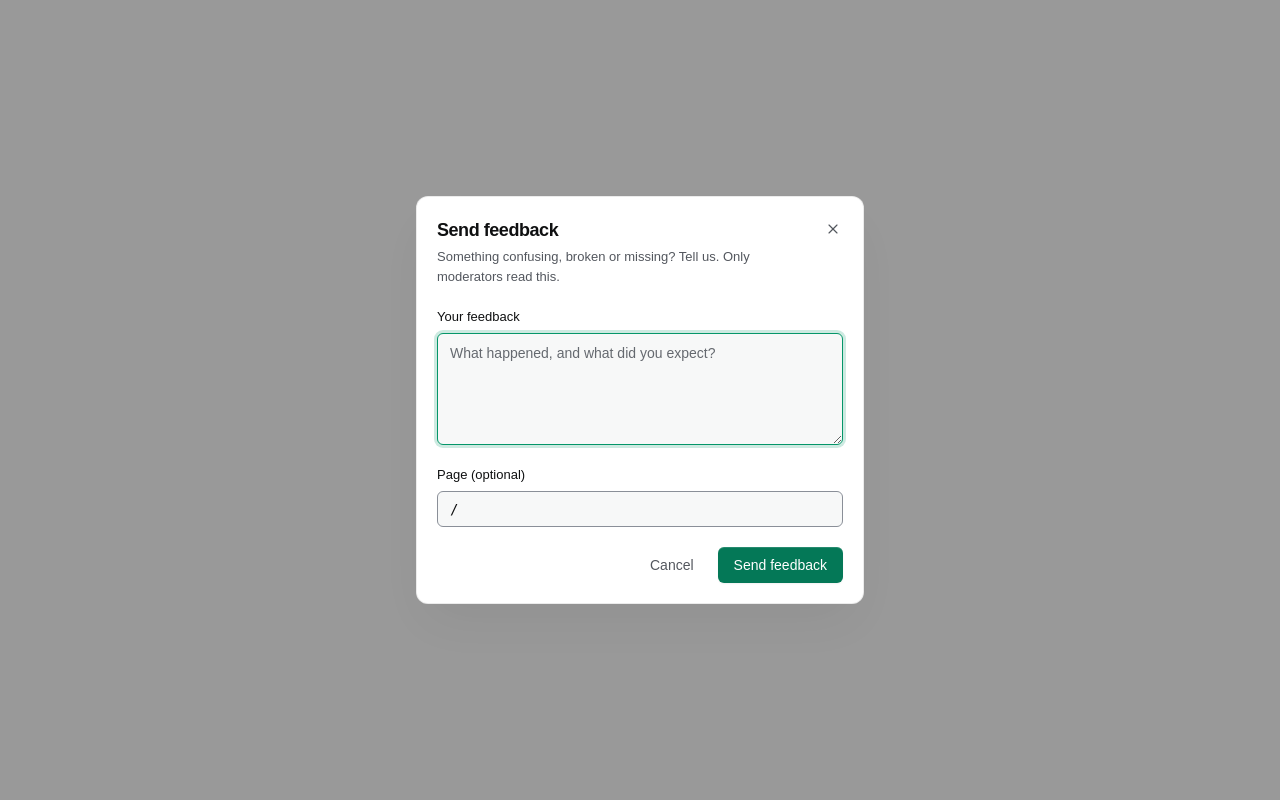
it: FeedbackDialog › shows a failed send
The image size is (1280, 800).
Step 1. Type "Hello there" into the text box labelled "Your feedback" → (640, 389), box [437,333,843,445]
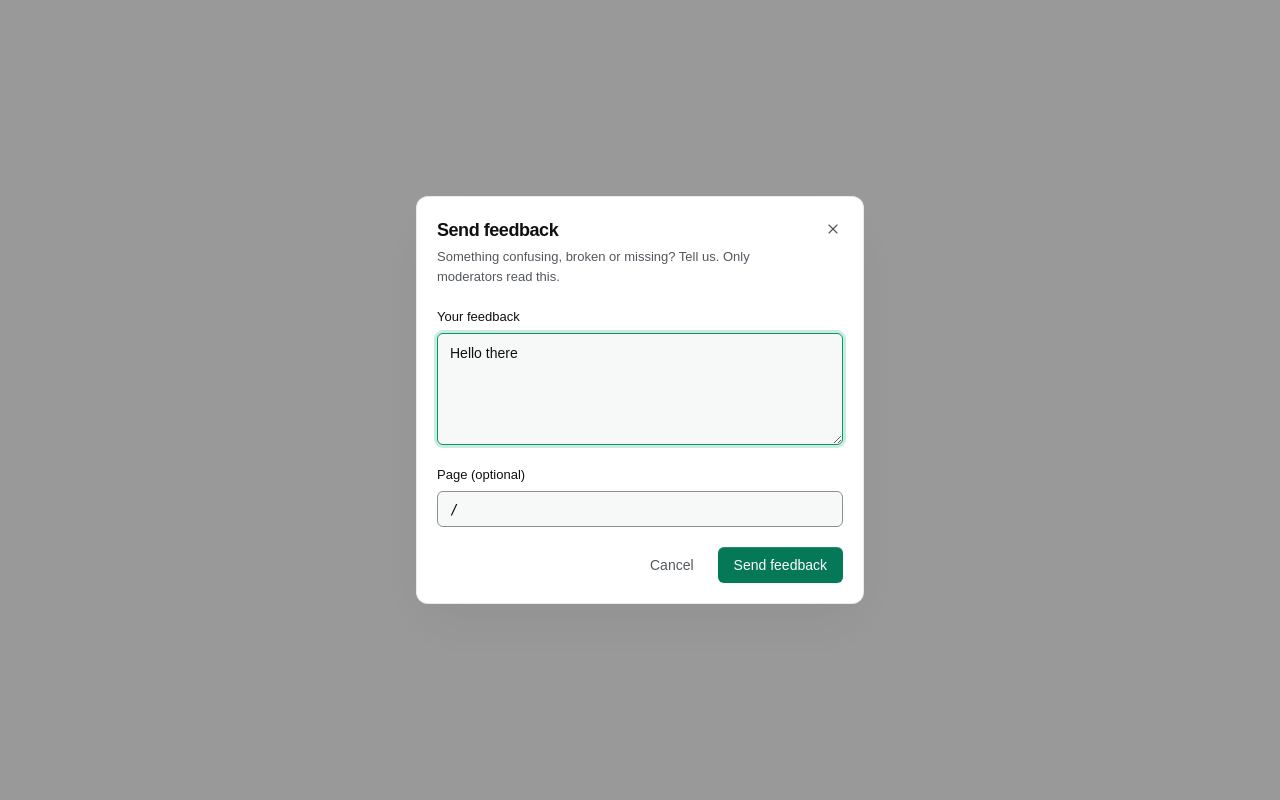
Step 2. Click the button "Send feedback" → (780, 565), box [718,547,843,583]
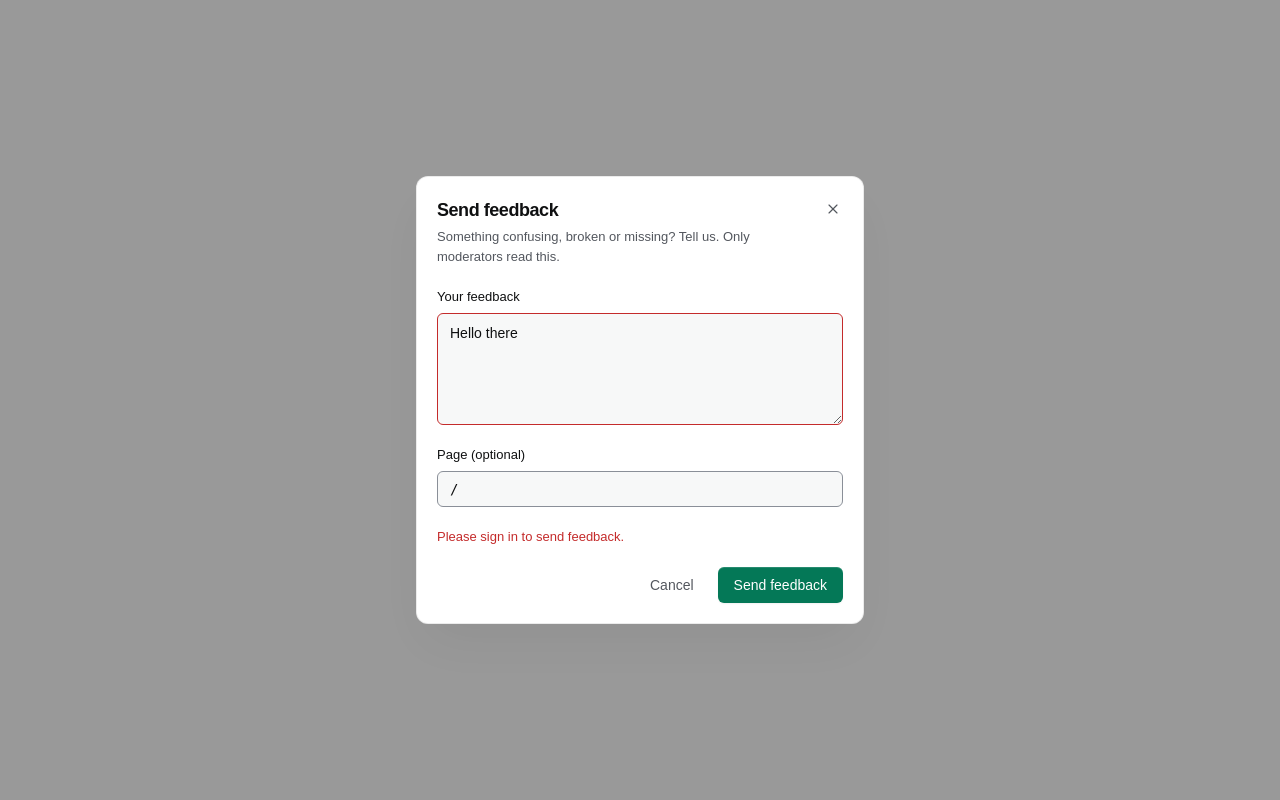
Expected: the message reads "Please sign in to send feedback.", [437,529,624,544]
